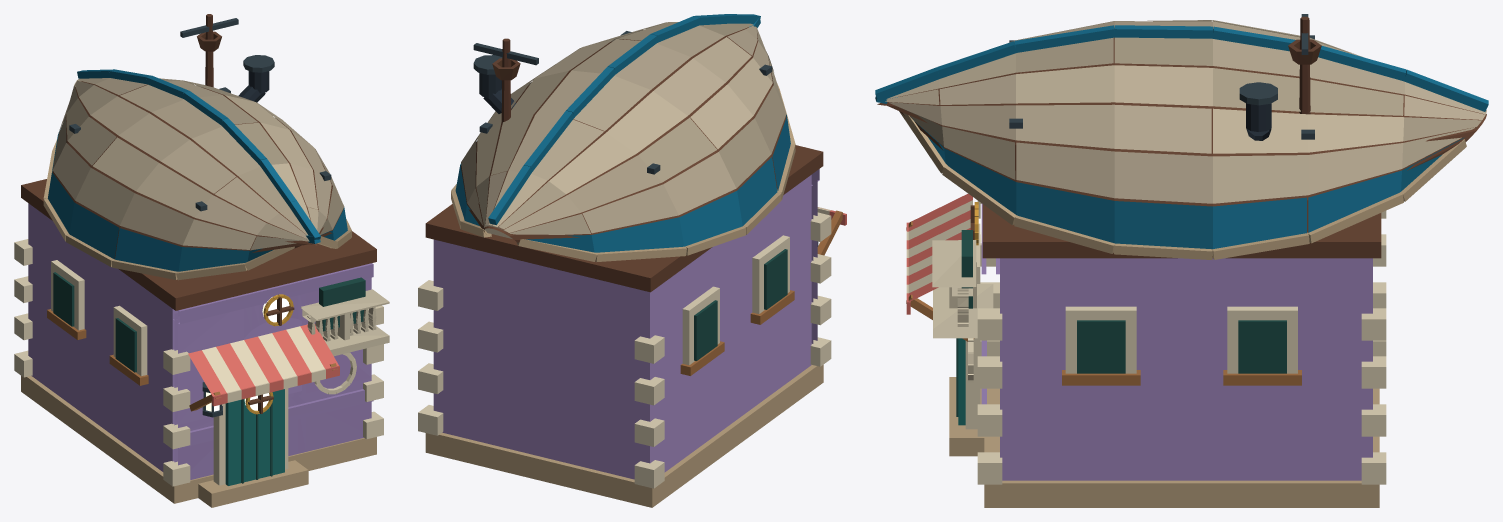
Rendered from net-loft-small-lilac.glb.
The picture shows the model from 3 angles, left to right: view 1: azimuth 30°, elevation 25°; view 2: azimuth 150°, elevation 25°; view 3: azimuth 270°, elevation 25°; orthographic projection. The views are drawn at different scales.
Visible parts, largest first — view 1: net-loft-small-lilac; view 2: net-loft-small-lilac; view 3: net-loft-small-lilac.
Part boxes in pixels (x1=…): net-loft-small-lilac: x1=14, y1=14, x2=389, y2=507; net-loft-small-lilac: x1=418, y1=14, x2=846, y2=507; net-loft-small-lilac: x1=875, y1=14, x2=1488, y2=507.
Bounding box in the file's own units: 3.21 × 4.53 × 5.45.
